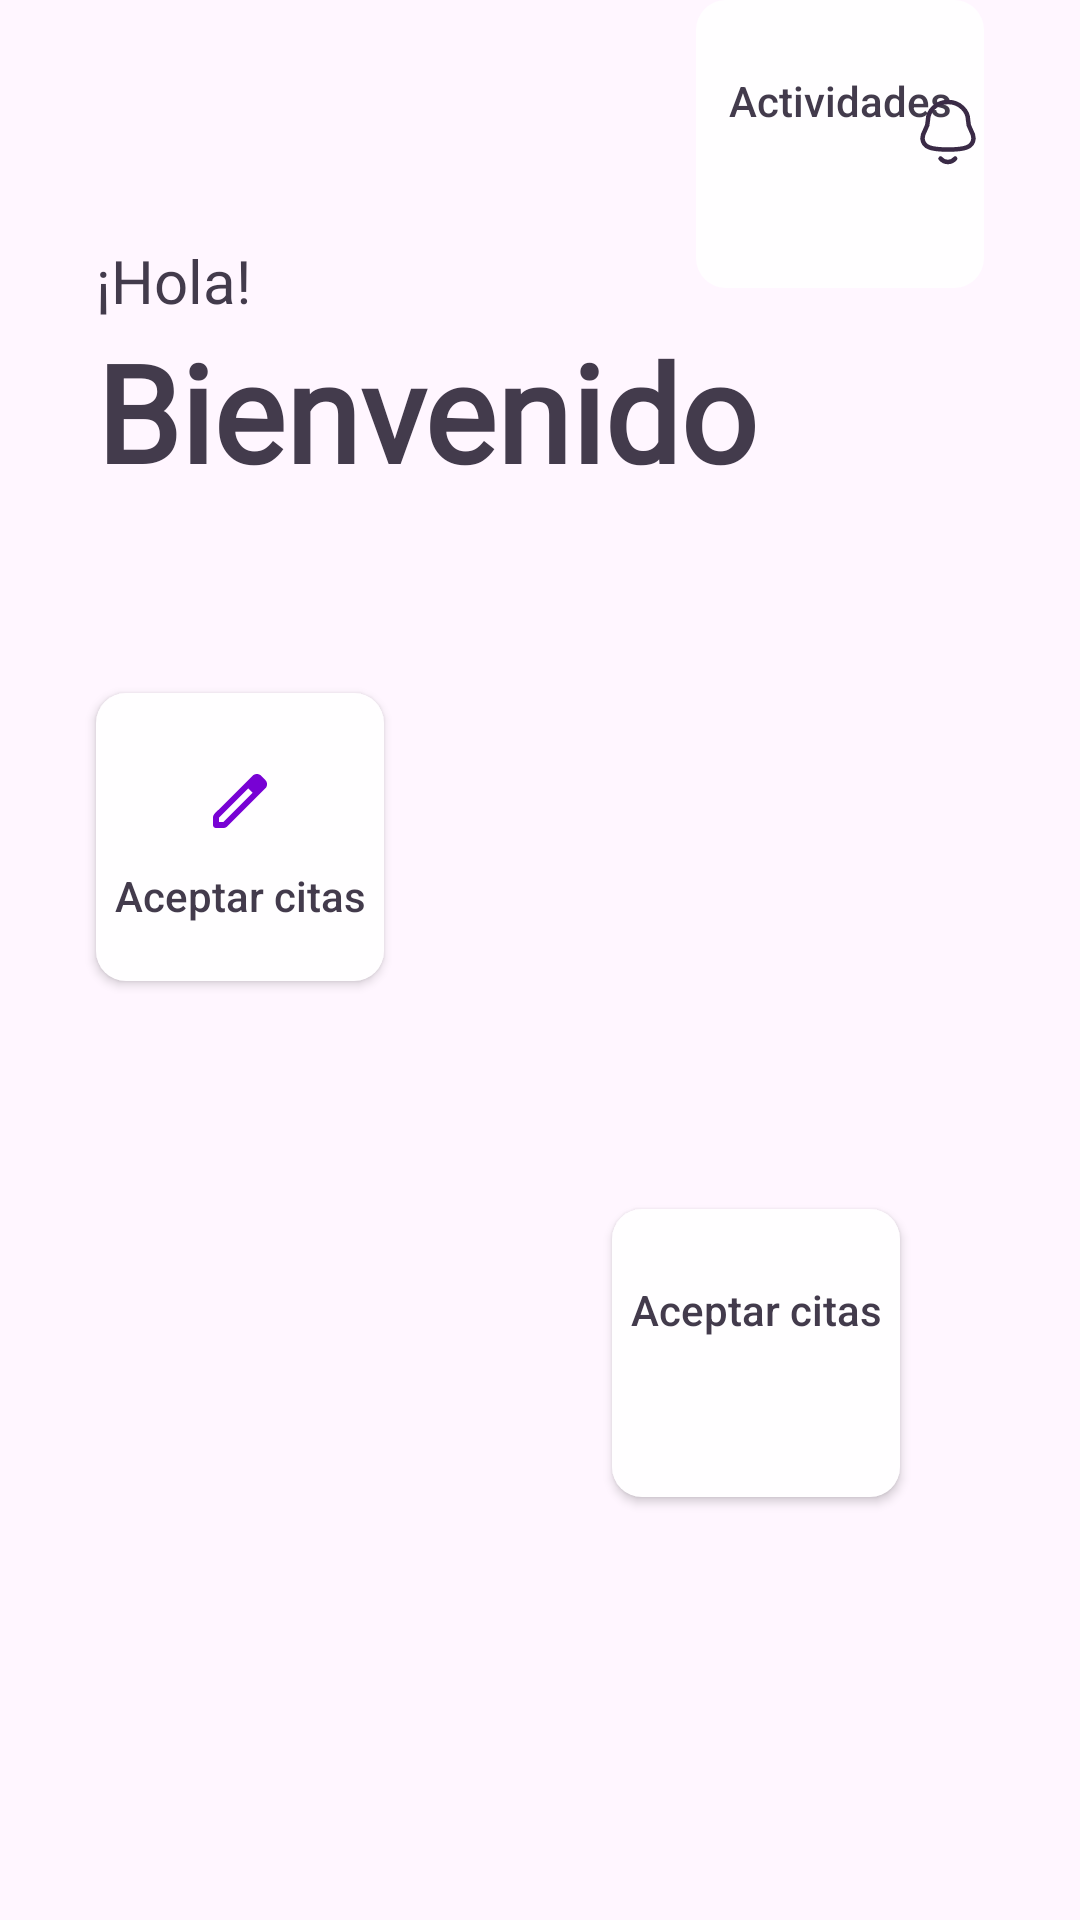

Icon click points for this 1080w x 1920h phone screenshot, format point (x, y):
noti: point (944, 130)
